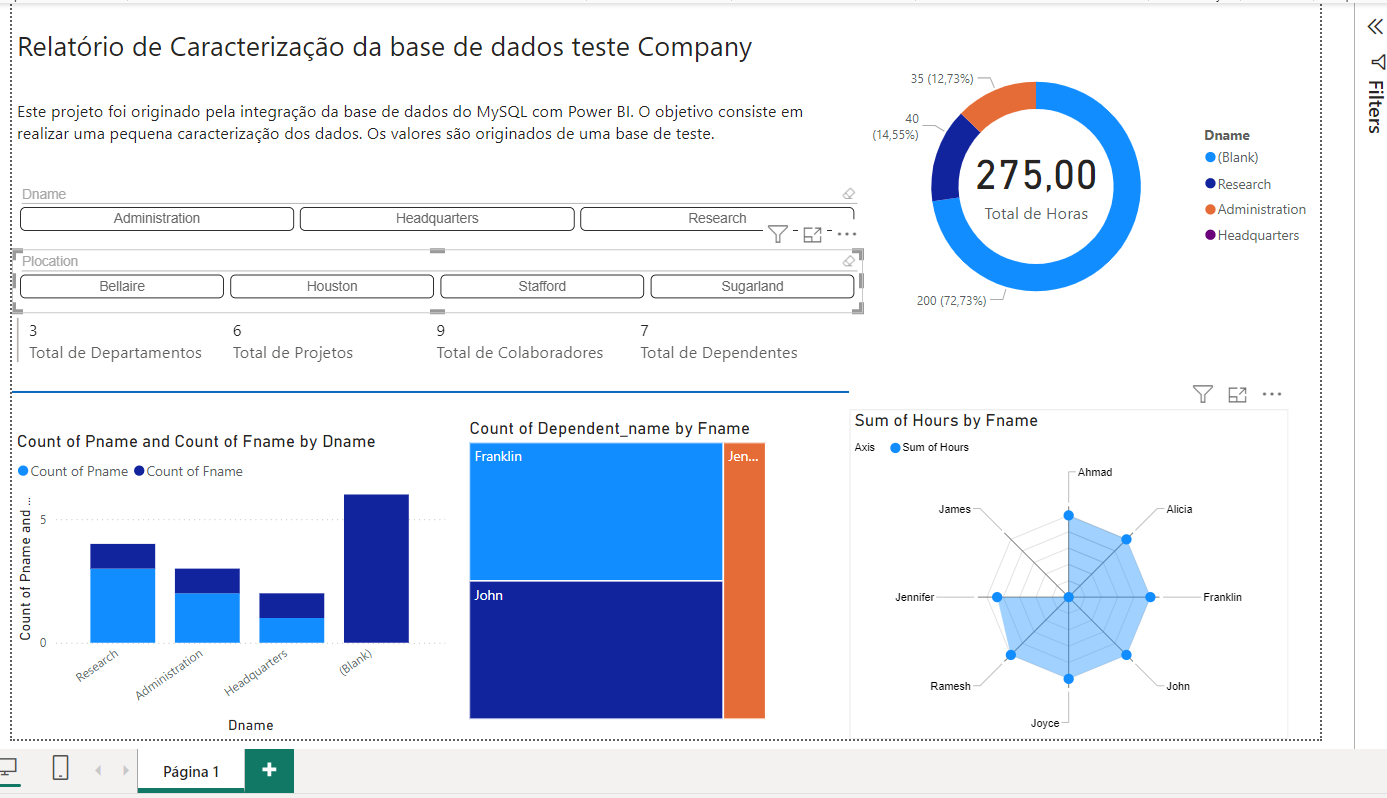

The page's visual inventory and layout, read from the dashboard file:
{"tool":"powerbi","page":{"name":"Página 1","canvas":[1280,720],"ordinal":0},"visuals":[{"type":"donutChart","fields":{"Category":["company_constraints departament.Dname"],"Y":["Sum(company_constraints works_on.Hours)"]},"box":[832.5,18.3,447.5,322.7],"z":0},{"type":"card","fields":{"Values":["Sum(company_constraints works_on.Hours)"]},"box":[926.9,108.1,150.7,132.4],"z":1000},{"type":"treemap","fields":{"Group":["company_constraints employee.Fname"],"Values":["CountNonNull(company_constraints dependent.Dependent_name)"]},"box":[442.9,406.4,299.8,299.8],"z":2000},{"type":"columnChart","fields":{"Y":["CountNonNull(company_constraints project.Pname)","CountNonNull(company_constraints employee.Fname)"],"Category":["company_constraints departament.Dname"]},"box":[0,418.5,429.2,301.4],"z":3000},{"type":"RadarChart1446119667547","fields":{"Category":["company_constraints employee.Fname"],"Y":["Sum(company_constraints works_on.Hours)"]},"box":[818.8,397.2,429.2,322.7],"z":4000},{"type":"textbox","box":[0,18.3,832.5,156.8],"z":5000},{"type":"ChicletSlicer1448559807354","fields":{"Category":["company_constraints departament.Dname"]},"box":[0,175,832.5,65.4],"z":6000},{"type":"ChicletSlicer1448559807354","fields":{"Category":["company_constraints project.Plocation"]},"box":[0,240.5,832.5,62.4],"z":7000},{"type":"multiRowCard","fields":{"Values":["company_constraints departament.Dname","company_constraints project.Pname","company_constraints employee.Fname","company_constraints dependent.Dependent_name"]},"box":[0,302.9,818.8,97.4],"z":8000},{"type":"shape","box":[0,360.7,818.8,39.6],"z":9000}]}

Visuals, with their boxes on the page's 1280x720 design canvas (x1, y1, x2, y2). These are canvas units, not pixel positions in the 1387x798 screenshot, which may show the page scaled, cropped or inside an application window:
donutChart - company_constraints departament.Dname x Sum(company_constraints works_on.Hours): (832, 18, 1280, 341)
card - Sum(company_constraints works_on.Hours): (927, 108, 1078, 240)
treemap - company_constraints employee.Fname x CountNonNull(company_constraints dependent.Dependent_name): (443, 406, 743, 706)
columnChart - CountNonNull(company_constraints project.Pname) x CountNonNull(company_constraints employee.Fname): (0, 418, 429, 720)
RadarChart1446119667547 - company_constraints employee.Fname x Sum(company_constraints works_on.Hours): (819, 397, 1248, 720)
textbox: (0, 18, 832, 175)
ChicletSlicer1448559807354 - company_constraints departament.Dname: (0, 175, 832, 240)
ChicletSlicer1448559807354 - company_constraints project.Plocation: (0, 240, 832, 303)
multiRowCard - company_constraints departament.Dname x company_constraints project.Pname: (0, 303, 819, 400)
shape: (0, 361, 819, 400)
